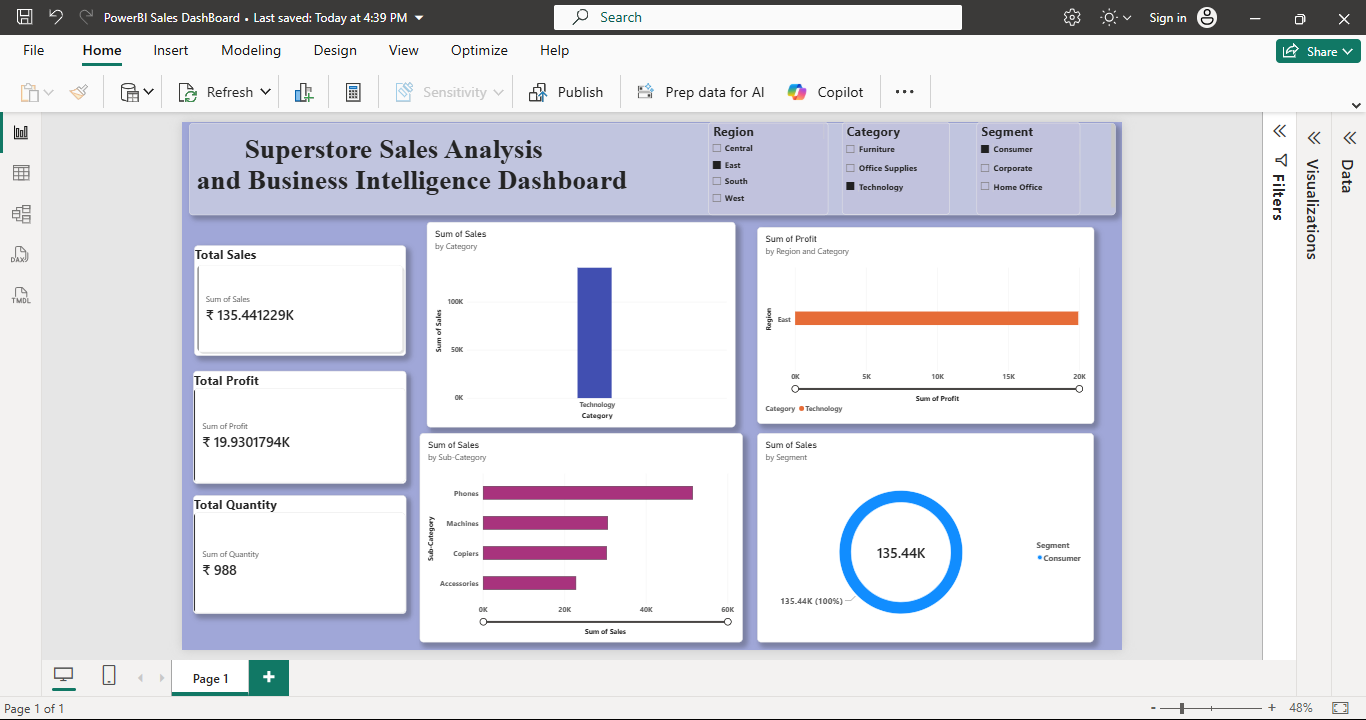

This screenshot's page, from the dashboard's own definition file:
{"tool":"powerbi","page":{"name":"Page 1","canvas":[1920,1080],"ordinal":0},"visuals":[{"type":"textbox","box":[14,2,1892,188],"z":0},{"type":"slicer","fields":{"Values":["cleaned_superstore.Region"]},"box":[1075,0,245,190],"z":1},{"type":"slicer","fields":{"Values":["cleaned_superstore.Category"]},"box":[1348,0,221,189.4],"z":2},{"type":"slicer","fields":{"Values":["cleaned_superstore.Segment"]},"box":[1622,0,212,190],"z":3},{"type":"cardVisual","title":"Total Sales","fields":{"Data":["Sum(cleaned_superstore.Sales)"]},"box":[25,252.5,432.5,225],"z":4},{"type":"cardVisual","title":"Total Profit","fields":{"Data":["Sum(cleaned_superstore.Profit)"]},"box":[22.5,507.5,435,230],"z":5},{"type":"cardVisual","title":"Total Quantity","fields":{"Data":["Sum(cleaned_superstore.Quantity)"]},"box":[22.5,762.5,435,242.5],"z":6},{"type":"clusteredColumnChart","fields":{"Category":["cleaned_superstore.Category"],"Y":["Sum(cleaned_superstore.Sales)"]},"box":[500,205,630,420],"z":7},{"type":"clusteredBarChart","fields":{"Category":["cleaned_superstore.Region"],"Series":["cleaned_superstore.Category"],"Y":["Sum(cleaned_superstore.Profit)"]},"box":[1175,215,688,402],"z":8},{"type":"donutChart","fields":{"Category":["cleaned_superstore.Segment"],"Y":["Sum(cleaned_superstore.Sales)"]},"box":[1175,635,687.5,427.5],"z":9},{"type":"clusteredBarChart","fields":{"Category":["cleaned_superstore.Sub-Category"],"Y":["Sum(cleaned_superstore.Sales)"]},"box":[486,636,660,427.5],"z":10}]}

Visuals, with their boxes on the page's 1920x1080 design canvas (x1, y1, x2, y2). These are canvas units, not pixel positions in the 1366x720 screenshot, which may show the page scaled, cropped or inside an application window:
textbox: rect(14, 2, 1906, 190)
slicer - cleaned_superstore.Region: rect(1075, 0, 1320, 190)
slicer - cleaned_superstore.Category: rect(1348, 0, 1569, 189)
slicer - cleaned_superstore.Segment: rect(1622, 0, 1834, 190)
"Total Sales" cardVisual: rect(25, 252, 458, 478)
"Total Profit" cardVisual: rect(22, 508, 458, 738)
"Total Quantity" cardVisual: rect(22, 762, 458, 1005)
clusteredColumnChart - cleaned_superstore.Category x Sum(cleaned_superstore.Sales): rect(500, 205, 1130, 625)
clusteredBarChart - cleaned_superstore.Region x cleaned_superstore.Category: rect(1175, 215, 1863, 617)
donutChart - cleaned_superstore.Segment x Sum(cleaned_superstore.Sales): rect(1175, 635, 1862, 1062)
clusteredBarChart - cleaned_superstore.Sub-Category x Sum(cleaned_superstore.Sales): rect(486, 636, 1146, 1064)
